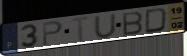3: (19, 23, 40, 49)
B: (121, 10, 144, 37)
D: (144, 7, 169, 35)
P: (42, 19, 65, 47)
T: (71, 15, 93, 43)
U: (93, 13, 118, 40)
